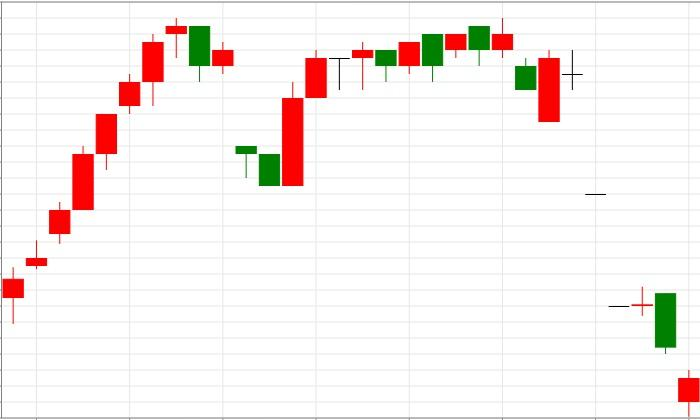bullish_engulfing_rise: (189, 25, 303, 186)
evening_star_fall: (2, 17, 210, 324)
